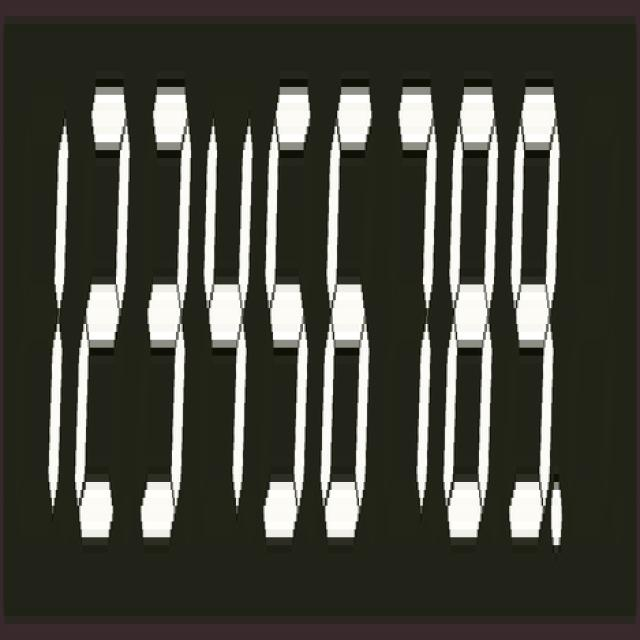.: (550, 471, 564, 548)
1: (44, 116, 70, 511)
2: (75, 87, 131, 577)
3: (138, 63, 190, 566)
4: (200, 98, 254, 514)
5: (260, 76, 312, 564)
6: (317, 79, 373, 545)
7: (394, 74, 438, 524)
8: (441, 74, 496, 545)
9: (508, 82, 563, 553)
